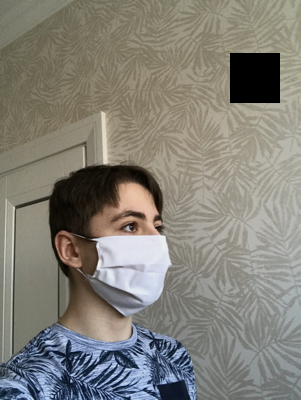with_mask: (92, 201, 172, 322)
